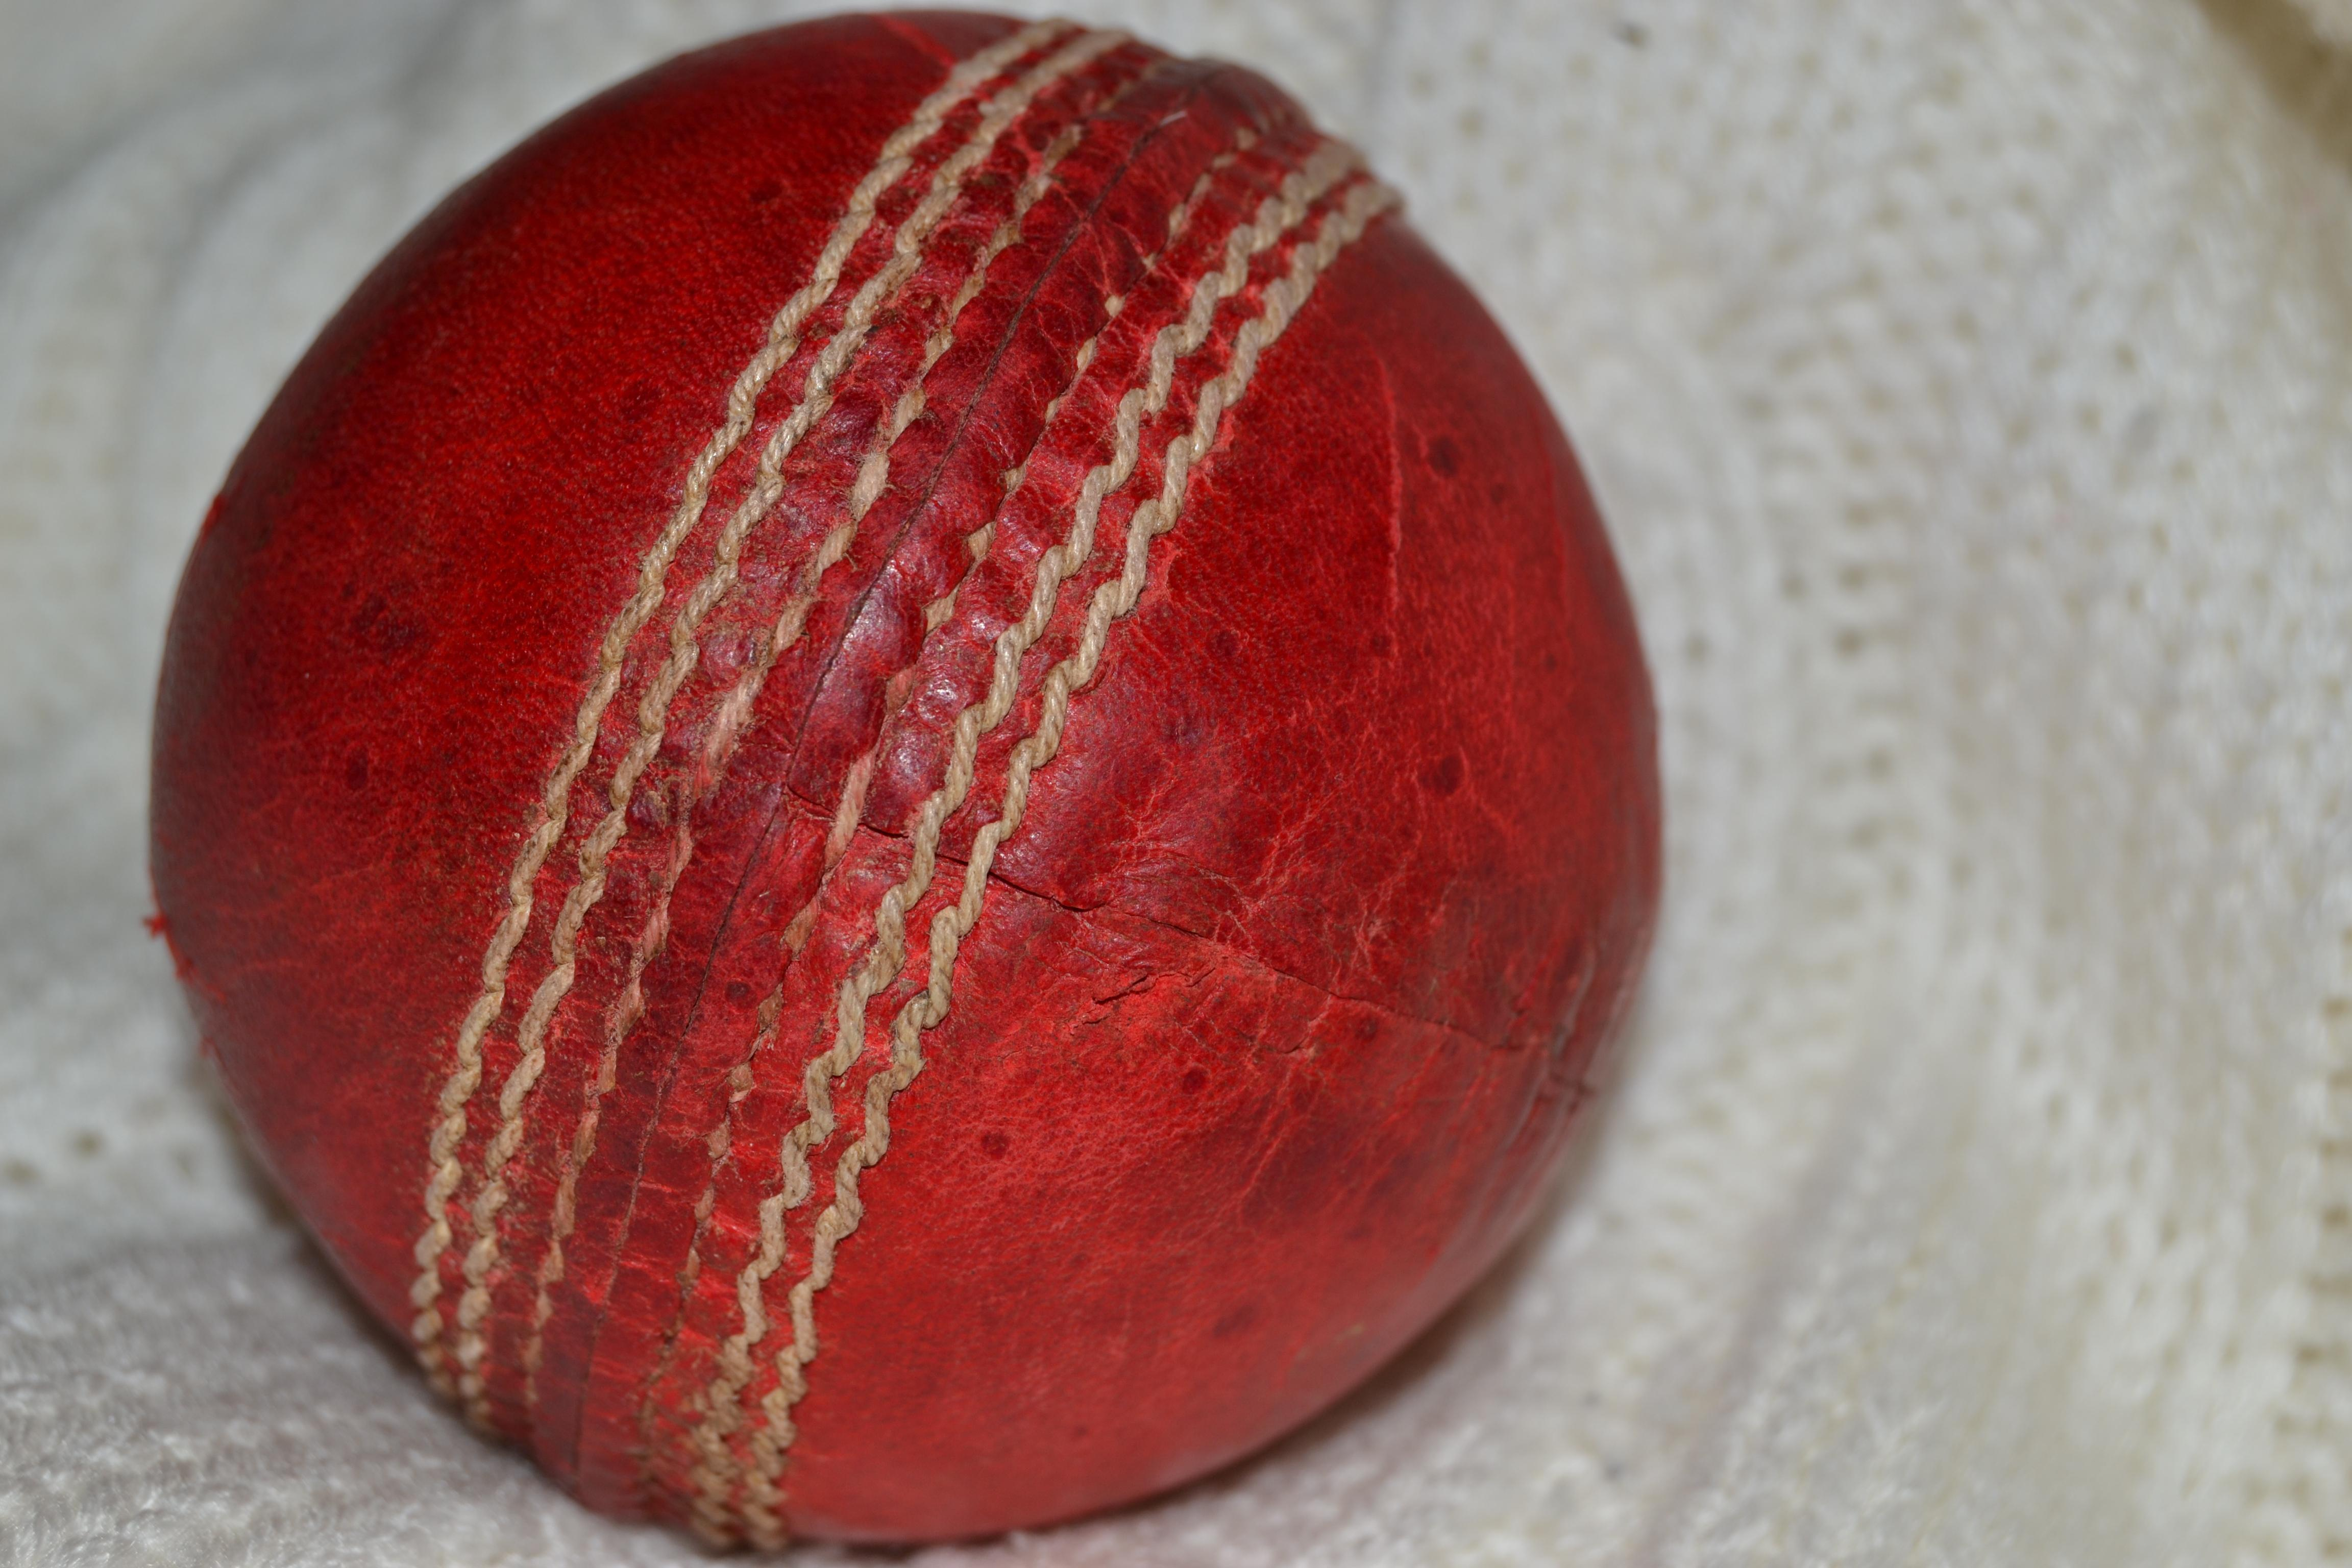Red_Ball: (135, 26, 1694, 1556)
